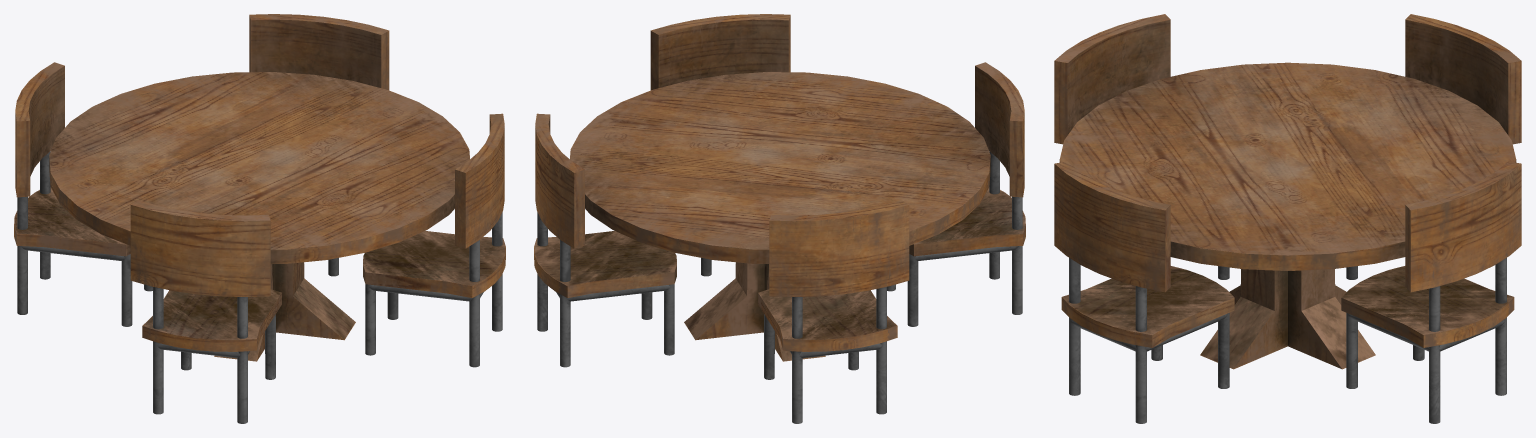
File: dinner_table3.glb
The picture shows the model from 3 angles, left to right: view 1: azimuth 30°, elevation 25°; view 2: azimuth 150°, elevation 25°; view 3: azimuth 270°, elevation 25°; orthographic projection. The views are drawn at different scales.
Parts seen in each view (by area): view 1: table top; view 2: table top; view 3: table top.
Part boxes in pixels (x1,y1,x2,y2): table top: (14, 14, 505, 423); table top: (534, 14, 1025, 423); table top: (1054, 14, 1521, 423).
Size of the model in its own units: 2.26 by 1.18 by 2.27.
Materials: 1 (1 with a texture image).
